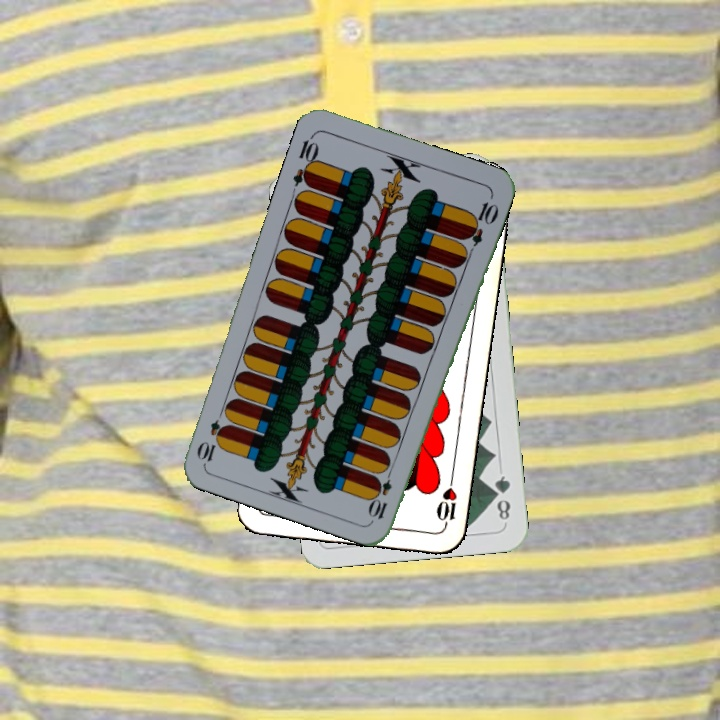E10: (289, 130, 322, 190), (367, 463, 396, 522)
G8: (489, 471, 513, 523)
H10: (432, 473, 460, 532)
